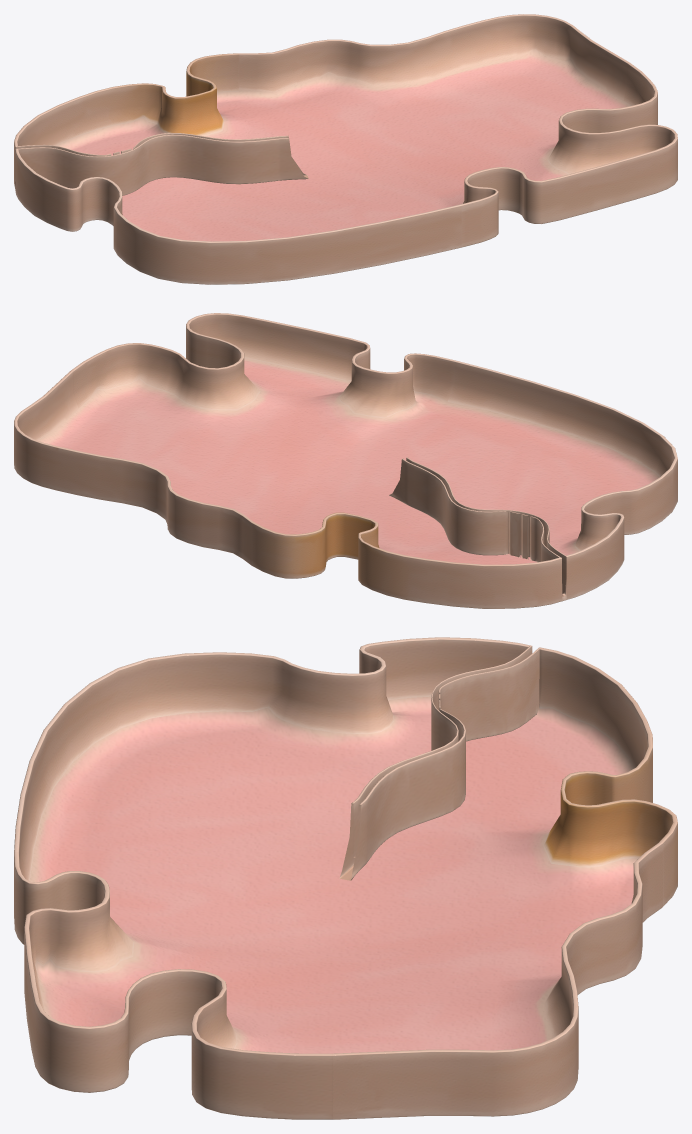
The model's file is MembranaCelular.fbx.
The picture shows the model from 3 angles, top to bottom: view 1: azimuth 30°, elevation 25°; view 2: azimuth 150°, elevation 25°; view 3: azimuth 270°, elevation 25°; orthographic projection. The views are drawn at different scales.
Parts seen in each view (by area): view 1: polySurface25, polySurface42; view 2: polySurface25, polySurface42; view 3: polySurface25, polySurface42.
Boxes of the visible parts, x1,y1,x2,y2 form: polySurface25: (14,14,677,284); polySurface42: (16,133,308,195); polySurface25: (14,313,677,608); polySurface42: (389,457,566,593); polySurface25: (14,637,677,1119); polySurface42: (339,645,539,880).
Bounding box in the file's own units: 25.7 × 2.42 × 17.23.
Materials: 2 (2 with a texture image).
